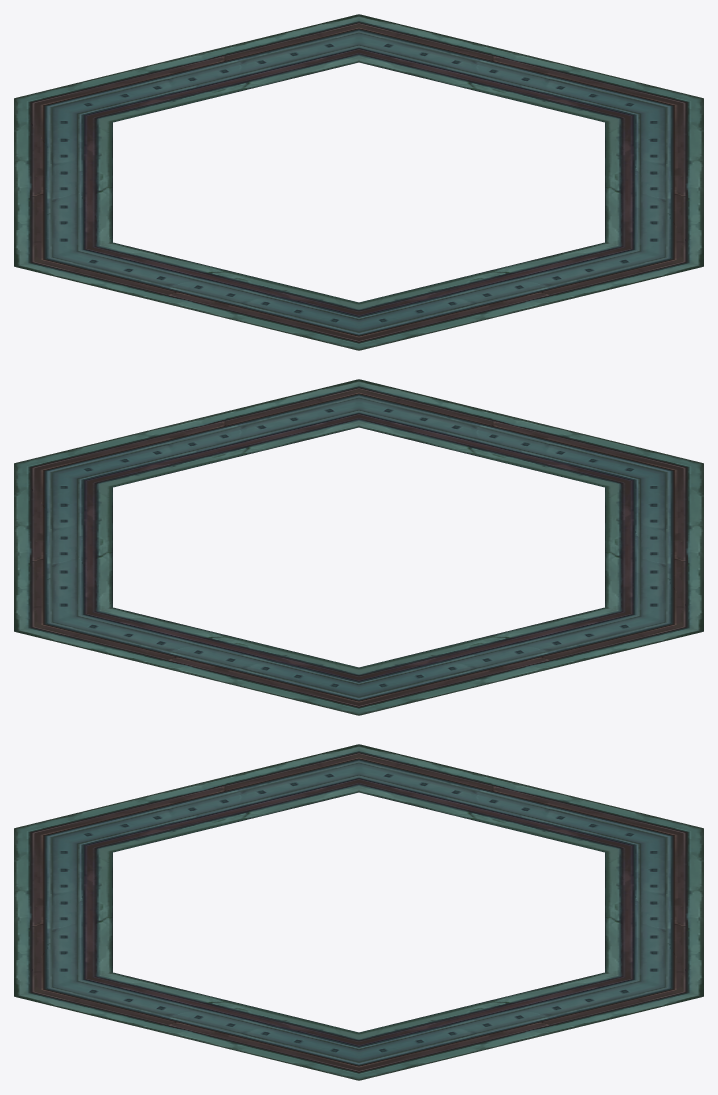
Rendered from jintf_wujian_13.FBX.
3 renders of one model, top to bottom at view 1: azimuth 30°, elevation 25°; view 2: azimuth 150°, elevation 25°; view 3: azimuth 270°, elevation 25°, orthographic.
Parts seen in each view (by area): view 1: jintf_wujian_13; view 2: jintf_wujian_13; view 3: jintf_wujian_13.
Part boxes in pixels (<box>): jintf_wujian_13: <box>14,14,703,350</box>; jintf_wujian_13: <box>14,379,703,715</box>; jintf_wujian_13: <box>14,744,703,1080</box>.
Bounding box in the file's own units: 2304 × 0.000325 × 1996.
